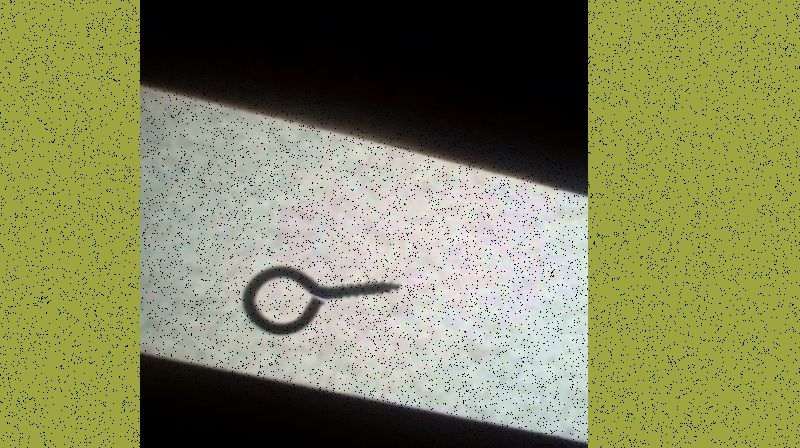O001: (238, 262, 403, 338)
